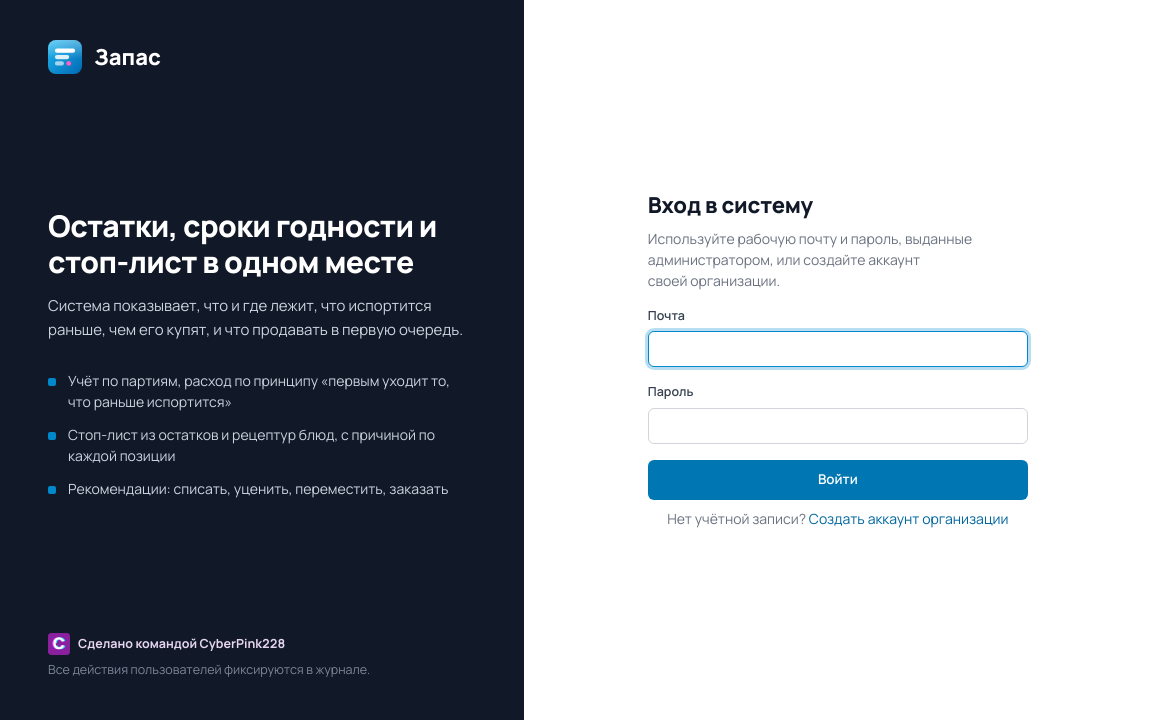
второй шаг входа администратора › запрос закрыт: возвращает к вводу пароля с объяснением
Type "admin@zapas.local" into the field labelled "Почта" at (838, 349), box [648,331,1028,367]
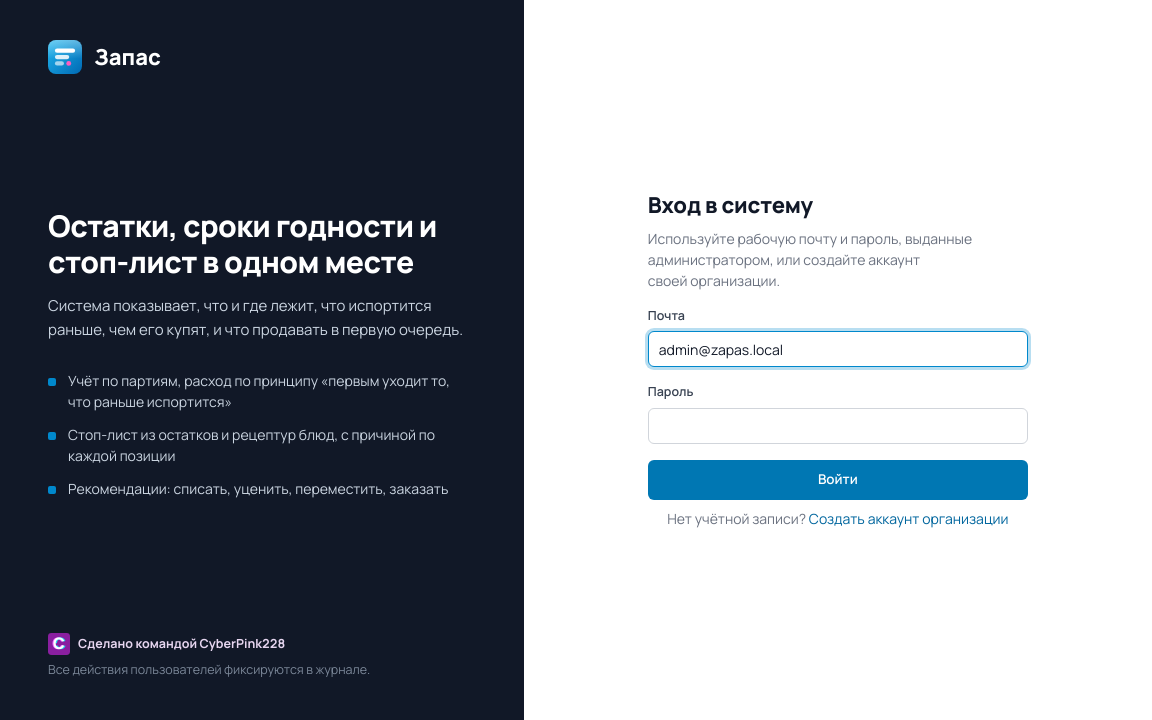
Type "какой-то-пароль" into the password field labelled "Пароль" at (838, 426), box [648,408,1028,444]
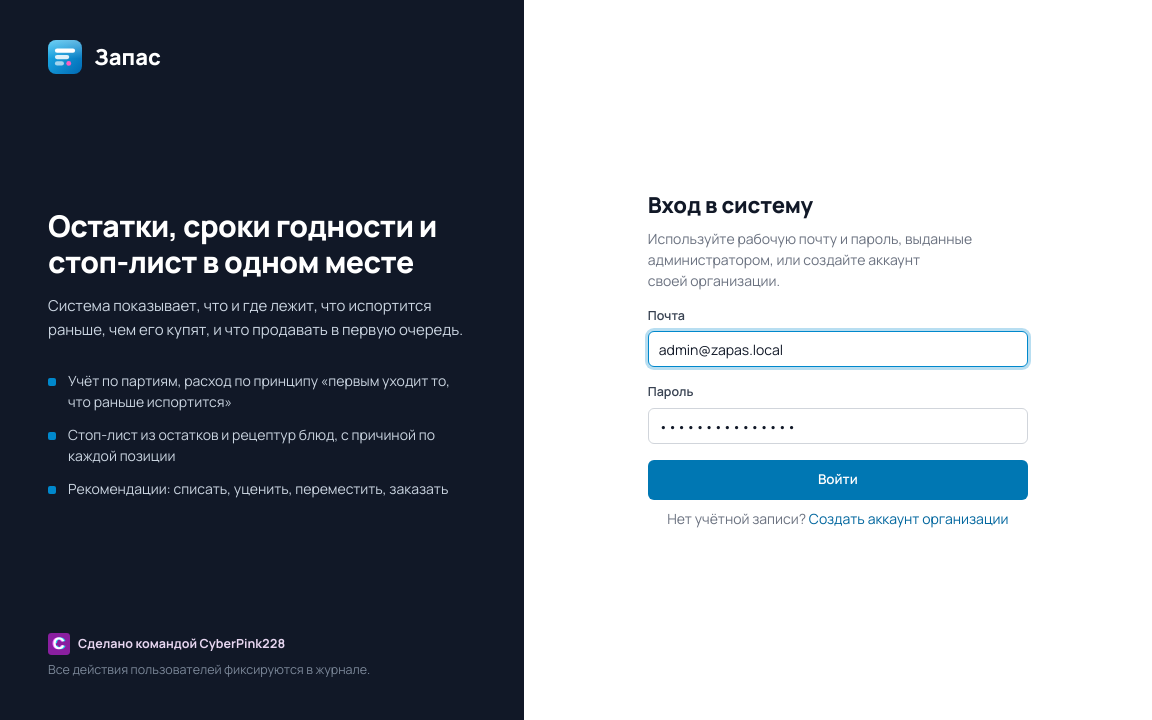
Click the button "Войти" at (838, 480), box [648,460,1028,500]
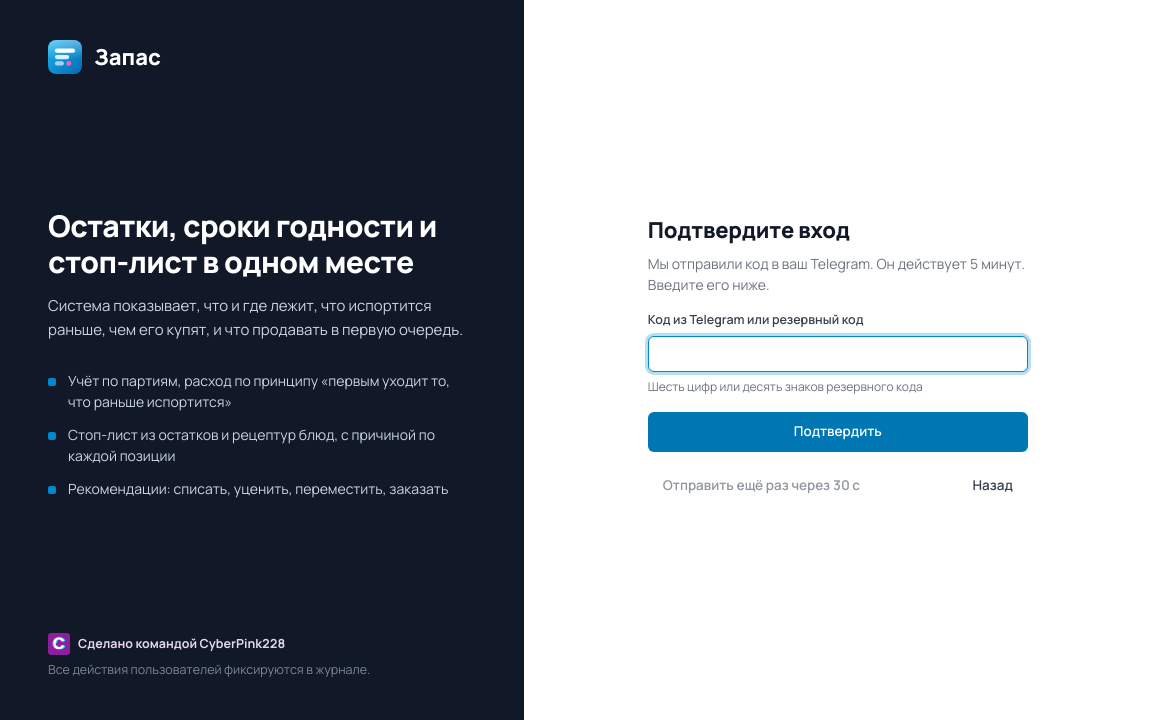
Now the heading "Подтвердите вход" is shown, box [648,215,850,245]
Type "000000" into the field labelled "Код из Telegram или резервный код" at (838, 354), box [648,336,1028,372]
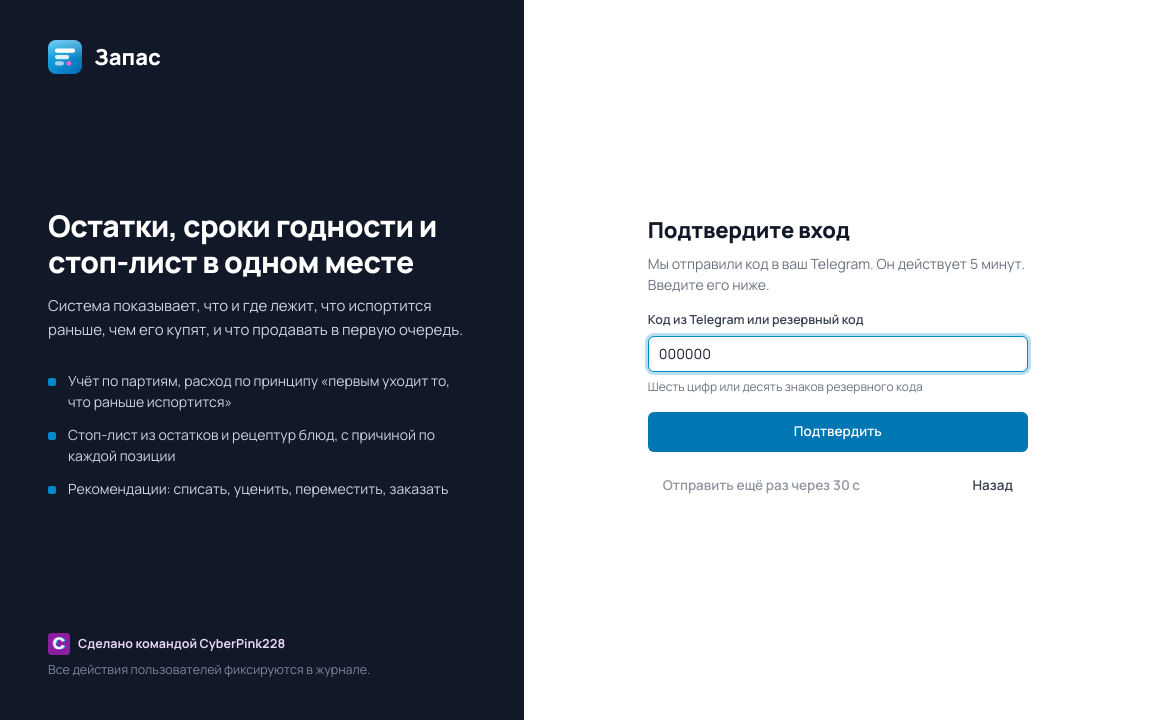
Click the button "Подтвердить" at (838, 432), box [648,412,1028,452]
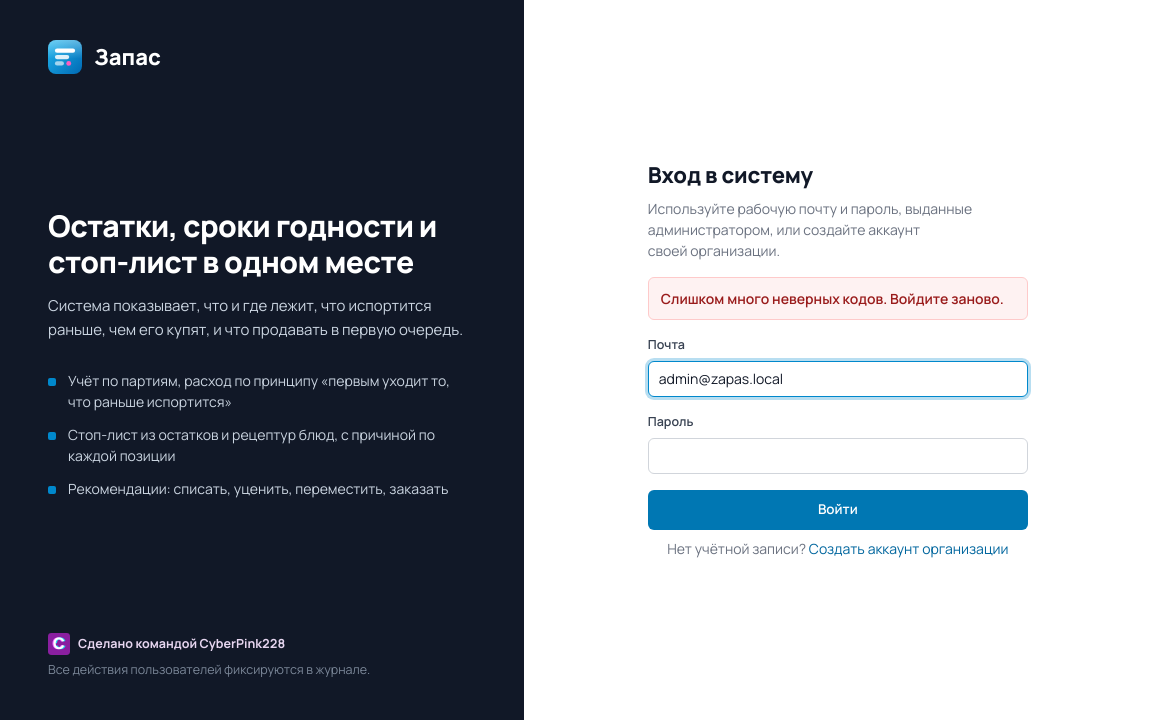
Now the message shows "Войдите заново", box [661,289,1004,308]
Now the password field labelled "Пароль" is shown, box [648,438,1028,474]
